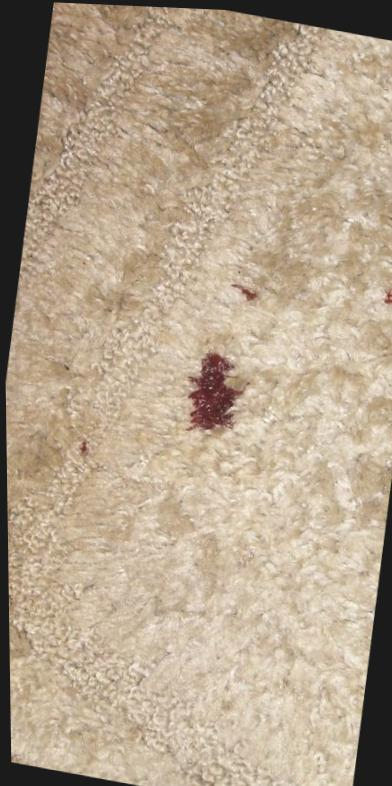Fire: (185, 350, 249, 430), (230, 281, 255, 300), (383, 286, 392, 301), (78, 440, 86, 453)
